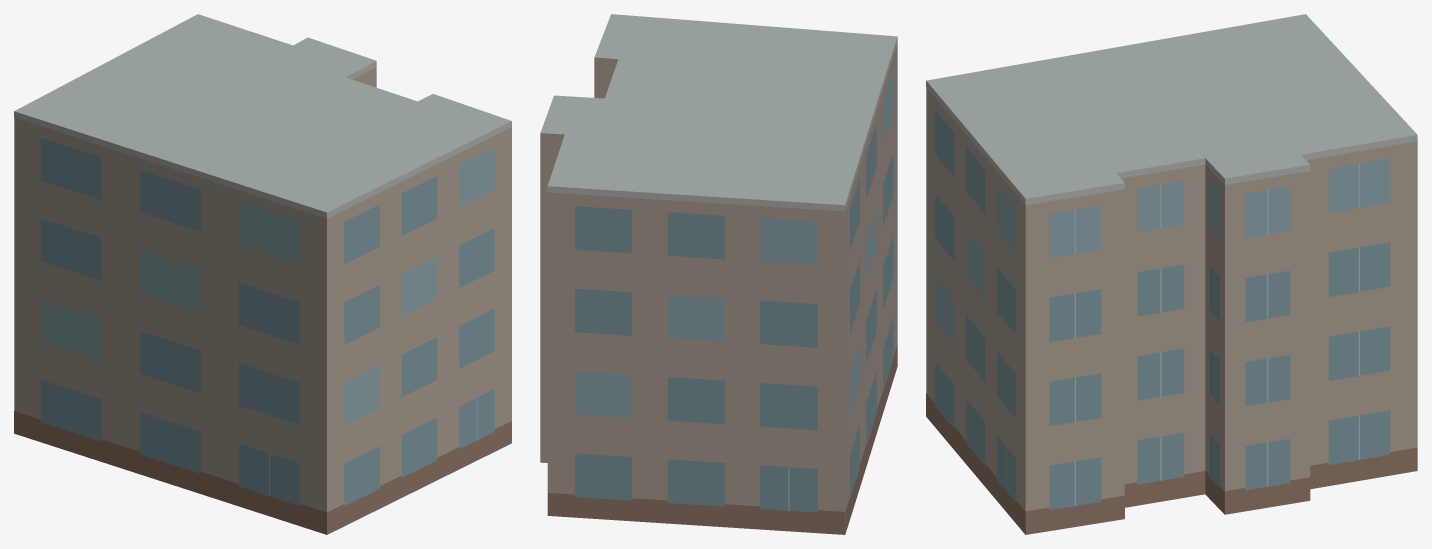
Rendered from survey-upis-32702289.glb.
3 renders of one model, left to right at view 1: azimuth 30°, elevation 25°; view 2: azimuth 150°, elevation 25°; view 3: azimuth 270°, elevation 25°, orthographic. The views are drawn at different scales.
Parts seen in each view (by area): view 1: survey-upis-32702289.tmp; view 2: survey-upis-32702289.tmp; view 3: survey-upis-32702289.tmp.
Boxes of the visible parts, x1,y1,x2,y2 form: survey-upis-32702289.tmp: [14, 14, 511, 534]; survey-upis-32702289.tmp: [540, 14, 897, 534]; survey-upis-32702289.tmp: [926, 14, 1417, 534].
Size of the model in its own units: 15.11 by 12.8 by 16.97.
